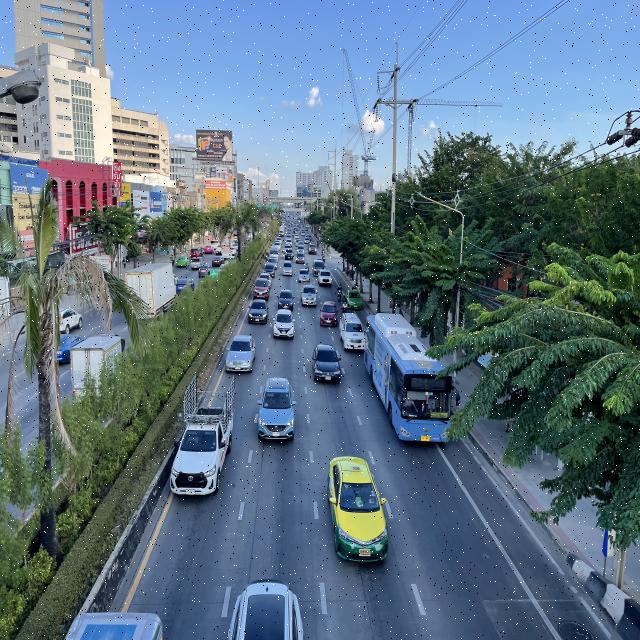bus: (362, 311, 461, 447)
car: (325, 454, 390, 564), (257, 378, 296, 442), (311, 343, 342, 385), (225, 334, 256, 375), (272, 309, 296, 340), (248, 298, 269, 325), (319, 300, 339, 328), (345, 288, 363, 311), (277, 289, 294, 311), (253, 278, 270, 300), (318, 269, 332, 287), (282, 260, 293, 277), (298, 268, 310, 283)
truck: (167, 372, 237, 500), (339, 312, 366, 352), (300, 279, 318, 308)
